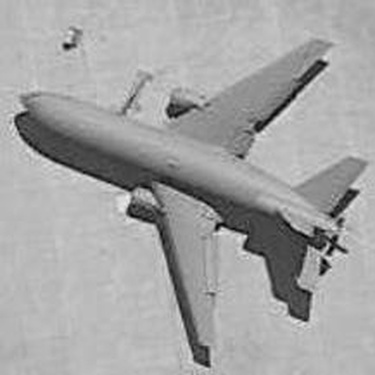airplane: (7, 21, 370, 357)
